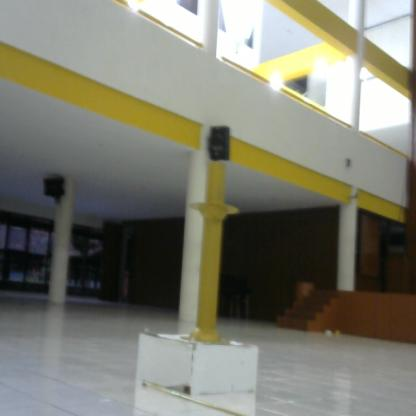pole: (174, 162, 244, 350)
